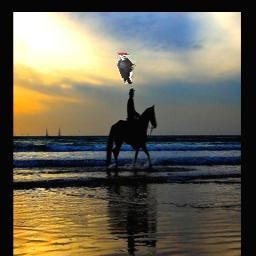Woodpecker: (118, 52, 137, 84)
